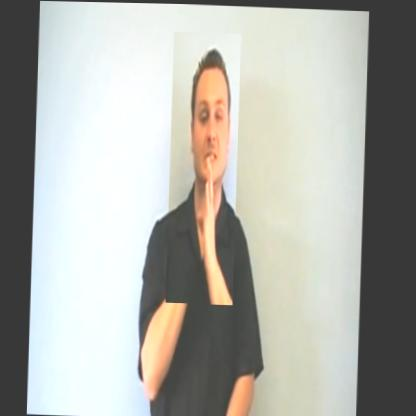Talk: (166, 30, 241, 304)
